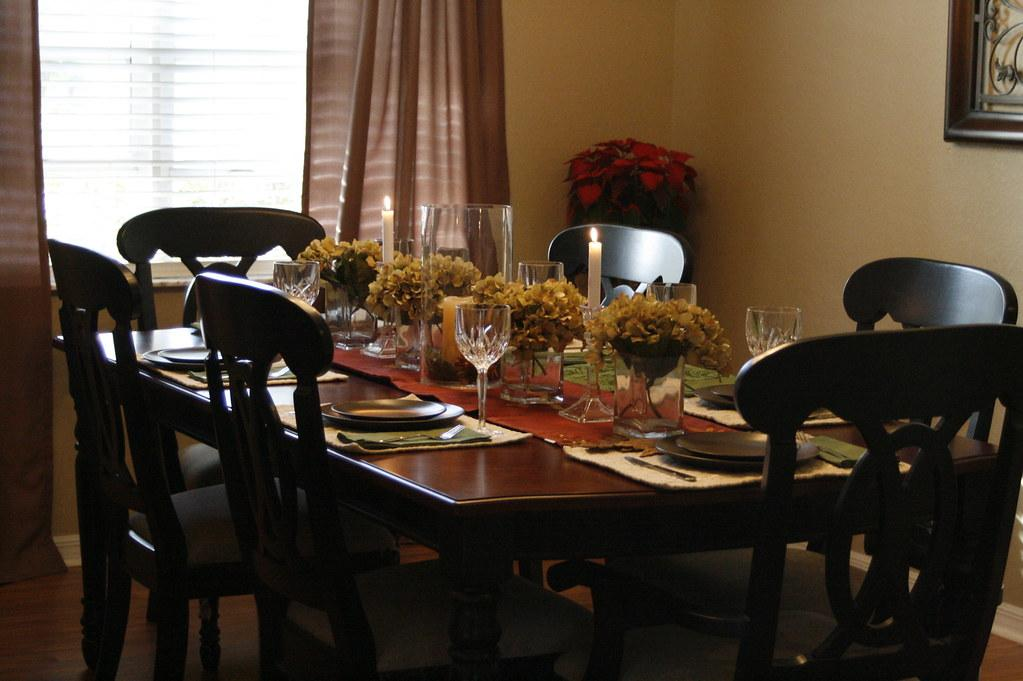table: (54, 312, 1001, 678)
